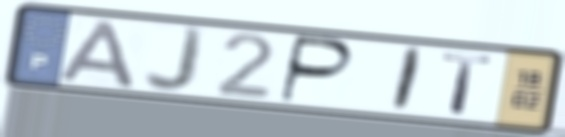2: (210, 31, 277, 100)
A: (53, 17, 139, 90)
I: (387, 44, 428, 114)
J: (140, 23, 210, 96)
P: (276, 33, 358, 106)
T: (438, 51, 497, 117)
